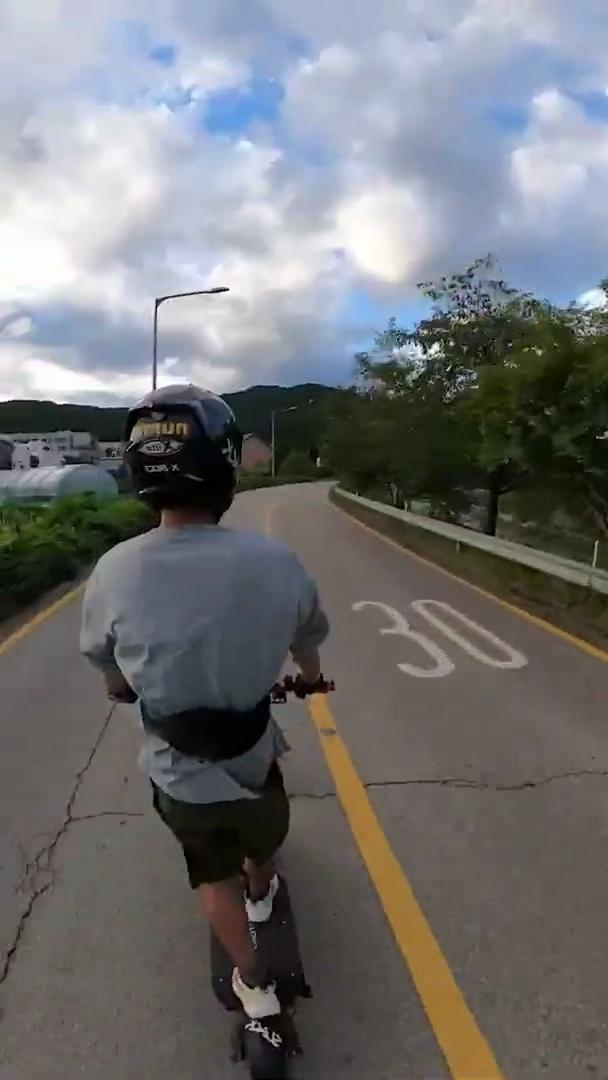helmet: (77, 383, 344, 1080)
